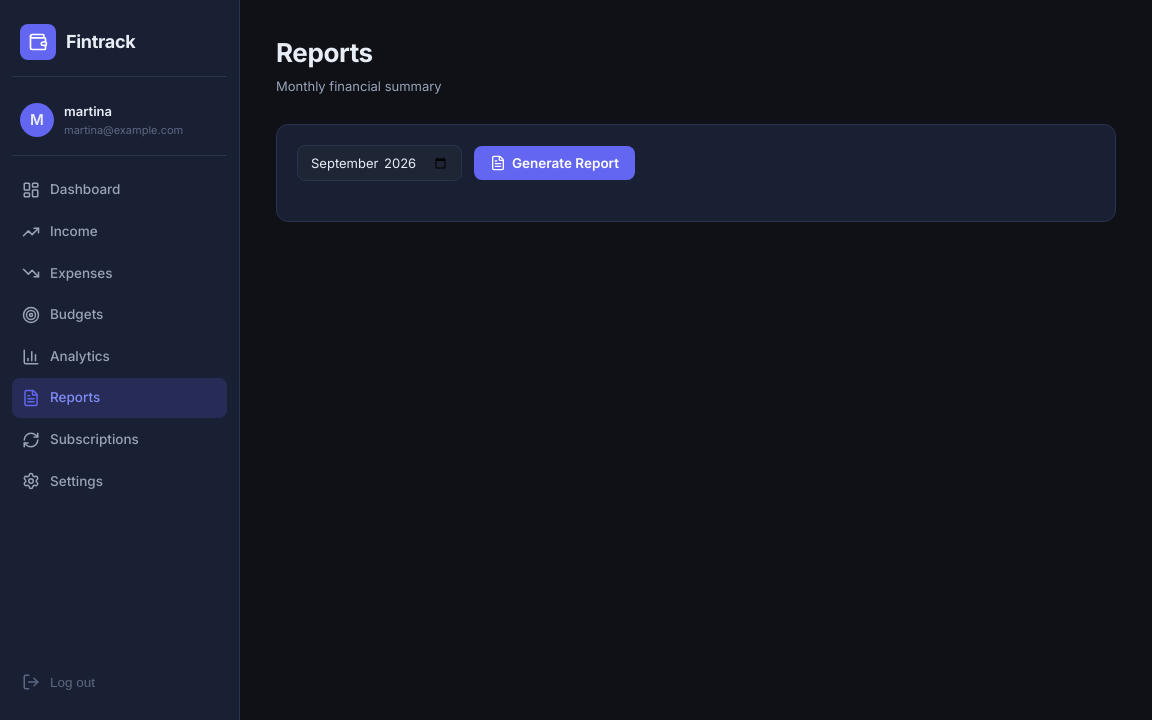
it: generating › negative savings are shown in red and a month without expenses has no largest expense
The width and height of the screenshot is (1152, 720).
Click the button "Generate Report": point(554, 163) 474,146 -> 635,180
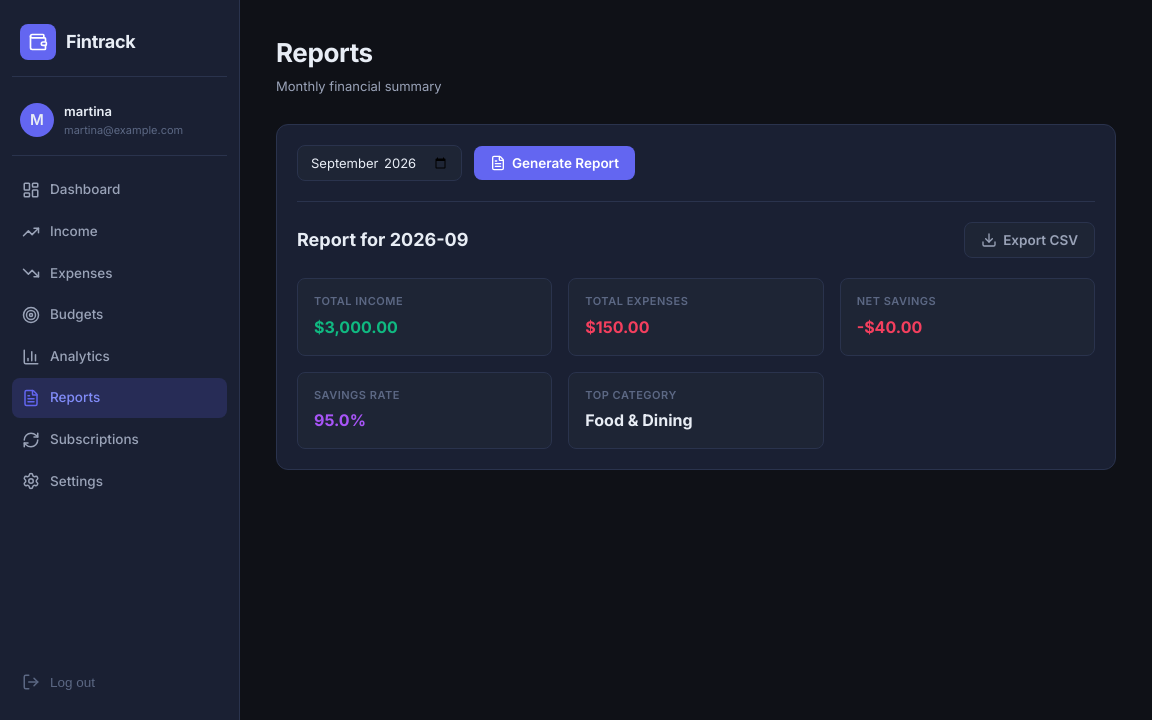
Check: the heading "Report for 2026-09" is shown, box 297,226 -> 468,255
